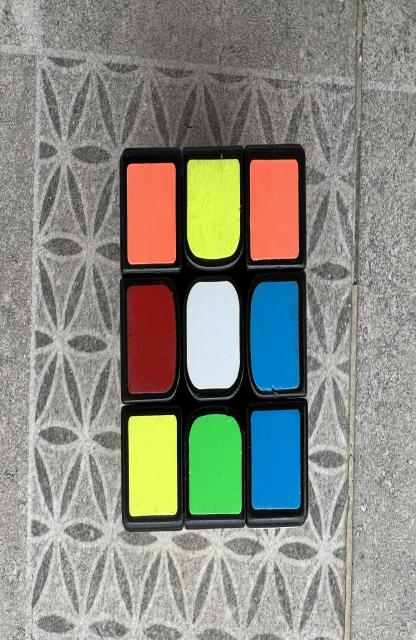Blue: (250, 282, 300, 392), (251, 410, 301, 510)
Green: (188, 413, 242, 515)
Orange: (249, 158, 299, 260), (127, 163, 176, 265)
Red: (127, 285, 176, 393)
White: (187, 280, 240, 390)
Yellow: (187, 158, 240, 260), (128, 415, 178, 517)
